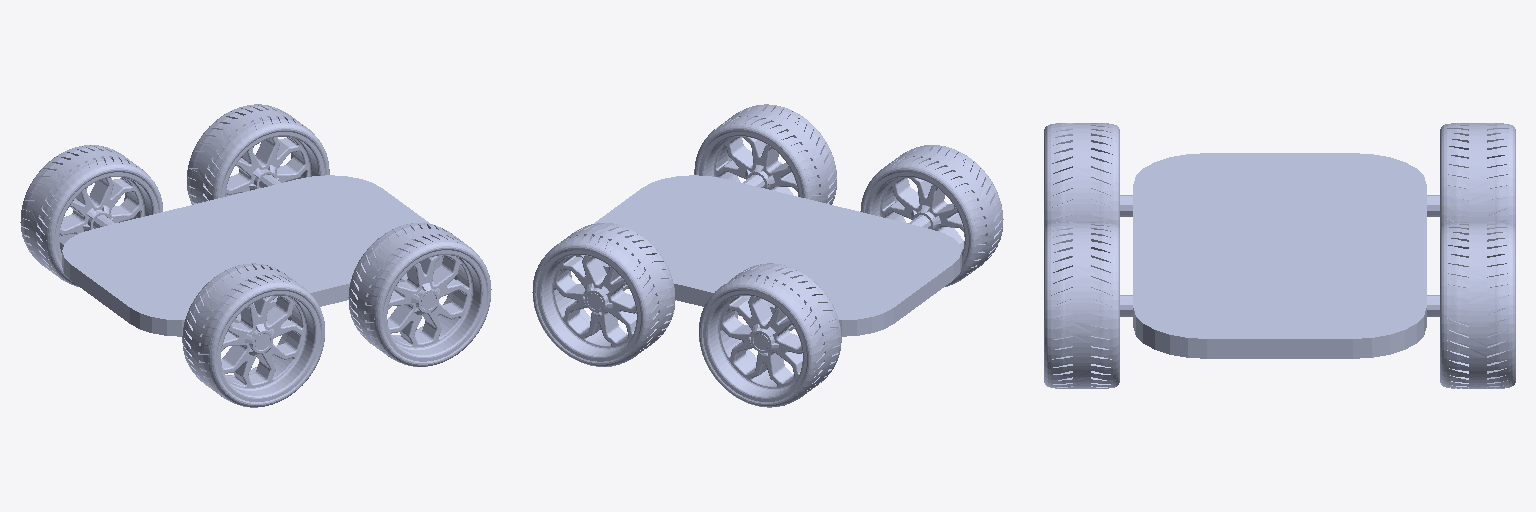
URDF robot description (urdf_car):
<?xml version="1.0" encoding="utf-8"?>
<!-- This URDF was automatically created by SolidWorks to URDF Exporter! Originally created by [author] ([email redacted]) 
     Commit Version: 1.5.1-0-g916b5db  Build Version: 1.5.7152.31018
     For more information, please see http://wiki.ros.org/sw_urdf_exporter -->
<robot
  name="urdf_car">
  <link
    name="base_link">
    <inertial>
      <origin
        xyz="2.77555756156289E-17 0 0.00750000000000001"
        rpy="0 0 0" />
      <mass
        value="0.903152641862503" />
      <inertia
        ixx="0.00331952002262307"
        ixy="6.61744490042419E-20"
        ixz="-2.66363609833383E-20"
        iyy="0.00637018844585826"
        iyz="-1.28871493698256E-20"
        izz="0.00965617158426167" />
    </inertial>
    <visual>
      <origin
        xyz="0 0 0"
        rpy="0 0 0" />
      <geometry>
        <mesh
          filename="package://urdf_car/meshes/base_link.STL" />
      </geometry>
      <material
        name="">
        <color
          rgba="0.792156862745098 0.819607843137255 0.933333333333333 1" />
      </material>
    </visual>
    <collision>
      <origin
        xyz="0 0 0"
        rpy="0 0 0" />
      <geometry>
        <mesh
          filename="package://urdf_car/meshes/base_link.STL" />
      </geometry>
    </collision>
  </link>
  <link
    name="link_1">
    <inertial>
      <origin
        xyz="0.0799810864557787 -0.135000140308011 0.00750004919415326"
        rpy="0 0 0" />
      <mass
        value="0.250701027337882" />
      <inertia
        ixx="0.000313933983389847"
        ixy="3.27673435490304E-10"
        ixz="5.15078204048487E-08"
        iyy="0.000548619696934756"
        iyz="8.32894651549933E-11"
        izz="0.00031393368417998" />
    </inertial>
    <visual>
      <origin
        xyz="0 0 0"
        rpy="0 0 0" />
      <geometry>
        <mesh
          filename="package://urdf_car/meshes/link_1.STL" />
      </geometry>
      <material
        name="">
        <color
          rgba="0.792156862745098 0.819607843137255 0.933333333333333 1" />
      </material>
    </visual>
    <collision>
      <origin
        xyz="0 0 0"
        rpy="0 0 0" />
      <geometry>
        <mesh
          filename="package://urdf_car/meshes/link_1.STL" />
      </geometry>
    </collision>
  </link>
  <joint
    name="revolute_1"
    type="revolute">
    <origin
      xyz="0 0 0"
      rpy="0 0 0" />
    <parent
      link="base_link" />
    <child
      link="link_1" />
    <axis
      xyz="0 -1 0" />
    <limit
      lower="0"
      upper="0"
      effort="30"
      velocity="30" />
  </joint>
  <link
    name="link_2">
    <inertial>
      <origin
        xyz="0.0799812186524581 0.135000192250082 0.00749995068893528"
        rpy="0 0 0" />
      <mass
        value="0.25069921775013" />
      <inertia
        ixx="0.000313932016659904"
        ixy="6.11892006513925E-11"
        ixz="-5.15076246609575E-08"
        iyy="0.000548615980204378"
        iyz="8.34376251513493E-11"
        izz="0.000313931718831378" />
    </inertial>
    <visual>
      <origin
        xyz="0 0 0"
        rpy="0 0 0" />
      <geometry>
        <mesh
          filename="package://urdf_car/meshes/link_2.STL" />
      </geometry>
      <material
        name="">
        <color
          rgba="0.792156862745098 0.819607843137255 0.933333333333333 1" />
      </material>
    </visual>
    <collision>
      <origin
        xyz="0 0 0"
        rpy="0 0 0" />
      <geometry>
        <mesh
          filename="package://urdf_car/meshes/link_2.STL" />
      </geometry>
    </collision>
  </link>
  <joint
    name="revolute_2"
    type="revolute">
    <origin
      xyz="0 0 0"
      rpy="0 0 0" />
    <parent
      link="base_link" />
    <child
      link="link_2" />
    <axis
      xyz="0 1 0" />
    <limit
      lower="0"
      upper="0"
      effort="30"
      velocity="30" />
  </joint>
  <link
    name="link_3">
    <inertial>
      <origin
        xyz="-0.0800187813475412 0.135000192250082 0.0074999506889355"
        rpy="0 0 0" />
      <mass
        value="0.250699217750129" />
      <inertia
        ixx="0.000313932016659899"
        ixy="6.11892024378994E-11"
        ixz="-5.15076246611616E-08"
        iyy="0.000548615980204373"
        iyz="8.34376253371191E-11"
        izz="0.000313931718831372" />
    </inertial>
    <visual>
      <origin
        xyz="0 0 0"
        rpy="0 0 0" />
      <geometry>
        <mesh
          filename="package://urdf_car/meshes/link_3.STL" />
      </geometry>
      <material
        name="">
        <color
          rgba="0.792156862745098 0.819607843137255 0.933333333333333 1" />
      </material>
    </visual>
    <collision>
      <origin
        xyz="0 0 0"
        rpy="0 0 0" />
      <geometry>
        <mesh
          filename="package://urdf_car/meshes/link_3.STL" />
      </geometry>
    </collision>
  </link>
  <joint
    name="revolute_3"
    type="revolute">
    <origin
      xyz="0 0 0"
      rpy="0 0 0" />
    <parent
      link="base_link" />
    <child
      link="link_3" />
    <axis
      xyz="0 1 0" />
    <limit
      lower="0"
      upper="0"
      effort="30"
      velocity="30" />
  </joint>
  <link
    name="link_4">
    <inertial>
      <origin
        xyz="-0.0800188789783767 -0.135000142297446 0.00750004927088538"
        rpy="0 0 0" />
      <mass
        value="0.250700755460129" />
      <inertia
        ixx="0.000313933648430408"
        ixy="3.11748932232448E-10"
        ixz="5.1508188059857E-08"
        iyy="0.000548618979381962"
        iyz="8.30189378718578E-11"
        izz="0.000313933349437551" />
    </inertial>
    <visual>
      <origin
        xyz="0 0 0"
        rpy="0 0 0" />
      <geometry>
        <mesh
          filename="package://urdf_car/meshes/link_4.STL" />
      </geometry>
      <material
        name="">
        <color
          rgba="0.792156862745098 0.819607843137255 0.933333333333333 1" />
      </material>
    </visual>
    <collision>
      <origin
        xyz="0 0 0"
        rpy="0 0 0" />
      <geometry>
        <mesh
          filename="package://urdf_car/meshes/link_4.STL" />
      </geometry>
    </collision>
  </link>
  <joint
    name="revolute_4"
    type="revolute">
    <origin
      xyz="0 0 0"
      rpy="0 0 0" />
    <parent
      link="base_link" />
    <child
      link="link_4" />
    <axis
      xyz="0 -1 0" />
    <limit
      lower="0"
      upper="0"
      effort="30"
      velocity="30" />
  </joint>
</robot>

--- Facts derived from the render (not from the file) ---
Views: 3 orthographic renders of the robot side by side, from view 1: azimuth 30°, elevation 25°; view 2: azimuth 150°, elevation 25°; view 3: azimuth 270°, elevation 25°.
Robot: urdf_car — 5 links, 4 joints (4 revolute); root link base_link; default pose: all joints at 0.
Links seen in each view (by area): view 1: base_link, link_1, link_4, link_3, link_2; view 2: base_link, link_3, link_2, link_4, link_1; view 3: base_link, link_1, link_2, link_3, link_4.
Boxes of the visible links, x1=… form: base_link: x1=62, y1=175, x2=443, y2=349; link_1: x1=348, y1=223, x2=491, y2=366; link_4: x1=182, y1=263, x2=324, y2=407; link_3: x1=20, y1=145, x2=162, y2=286; link_2: x1=187, y1=104, x2=329, y2=204; base_link: x1=575, y1=175, x2=961, y2=349; link_3: x1=699, y1=263, x2=841, y2=407; link_2: x1=532, y1=223, x2=675, y2=366; link_4: x1=860, y1=145, x2=1003, y2=286; link_1: x1=694, y1=104, x2=836, y2=204; base_link: x1=1120, y1=153, x2=1439, y2=358; link_1: x1=1044, y1=222, x2=1119, y2=388; link_2: x1=1440, y1=222, x2=1515, y2=388; link_3: x1=1440, y1=123, x2=1515, y2=228; link_4: x1=1044, y1=123, x2=1119, y2=228.
Size in the robot's own frame: 0.3 by 0.3213 by 0.1142 metres.
5 mesh visuals loaded from 5 distinct referenced files (5 binary STL).